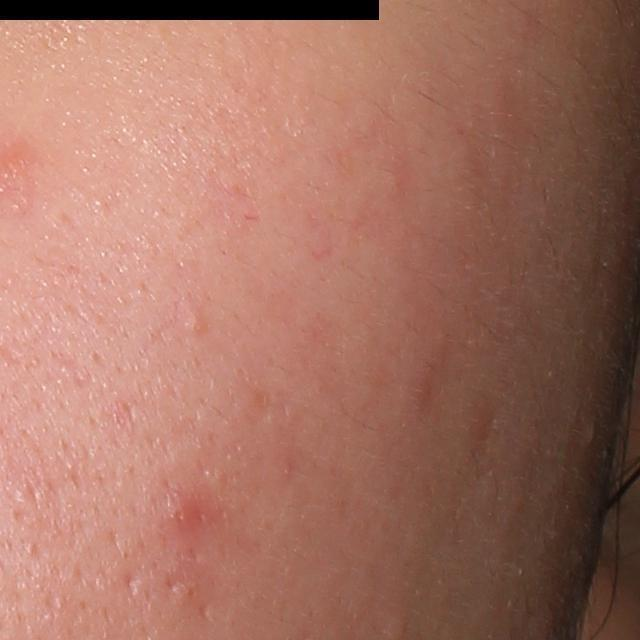atrophic_scar: (119, 571, 141, 601), (196, 595, 213, 625)
papule: (160, 490, 211, 536)
